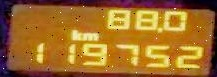-: (156, 26, 162, 32)
0: (161, 9, 186, 30)
1: (65, 42, 75, 63), (34, 42, 42, 63)
2: (173, 45, 203, 68)
5: (143, 44, 169, 67)
7: (112, 43, 139, 65)
8: (105, 8, 129, 29), (134, 9, 157, 29)
9: (80, 42, 107, 65)
X: (69, 29, 81, 41), (81, 32, 96, 41)
